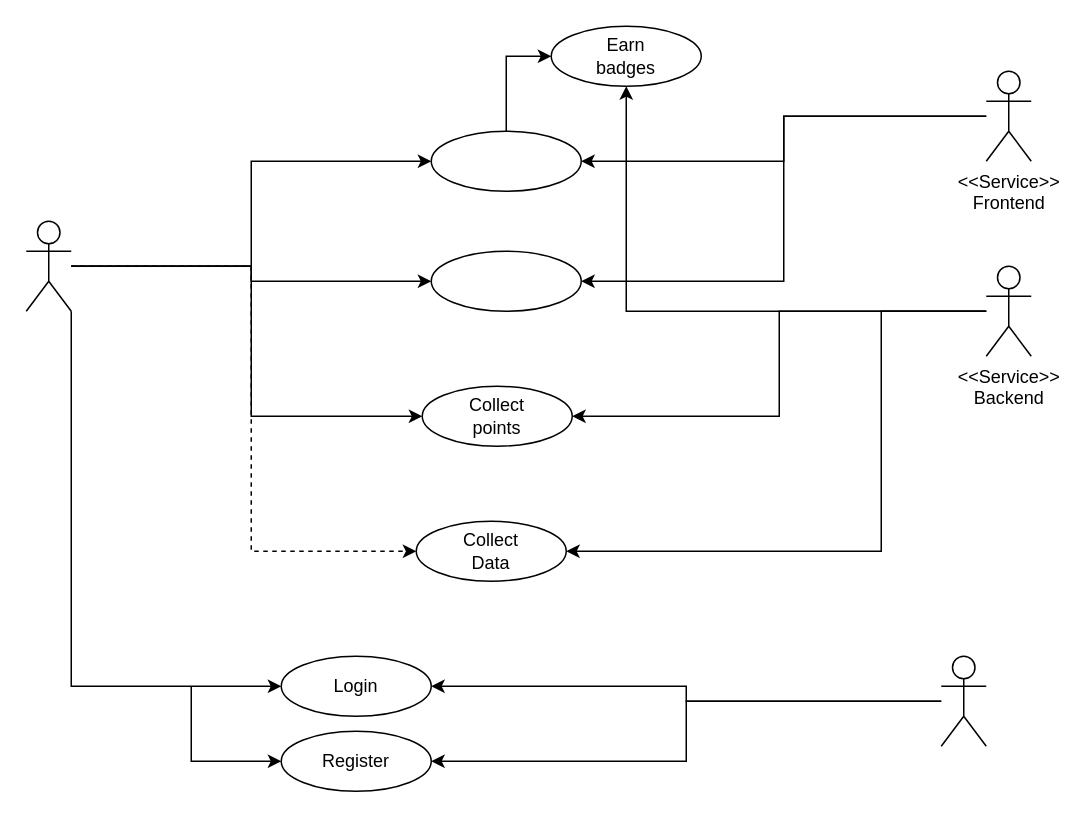
Image size: 1086x827. Some labels were removed from this diagram. The centre of each missing label's shape, as x and y in pixels:
"<<Service>> Authentification" belongs at (963,700).
"Complete quests" belongs at (505,160).
"User" belongs at (48,265).
"View leaderboard" belongs at (505,280).
